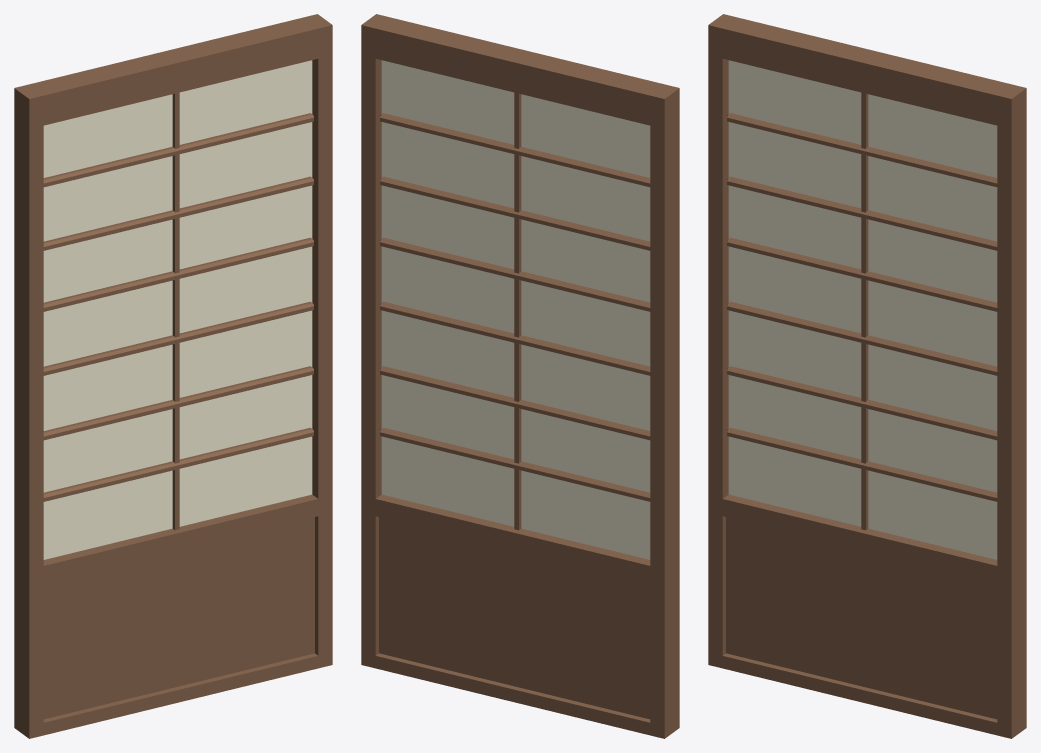
The model's file is Door4.fbx.
3 views of the same model, side by side, from view 1: azimuth 30°, elevation 25°; view 2: azimuth 150°, elevation 25°; view 3: azimuth 330°, elevation 25° (orthographic).
Parts seen in each view (by area): view 1: paper4, frame, sticks; view 2: paper4, frame, sticks; view 3: paper4, frame, sticks.
Boxes of the visible parts, box(x1,y1,x2,y2) form: paper4: box(43, 60, 312, 559); frame: box(14, 14, 332, 738); sticks: box(43, 92, 313, 530); paper4: box(381, 60, 650, 559); frame: box(361, 14, 679, 738); sticks: box(380, 92, 650, 530); paper4: box(728, 60, 997, 559); frame: box(708, 14, 1026, 738); sticks: box(727, 92, 997, 530).
Bounding box in the file's own units: 190 × 382 × 16.39.
